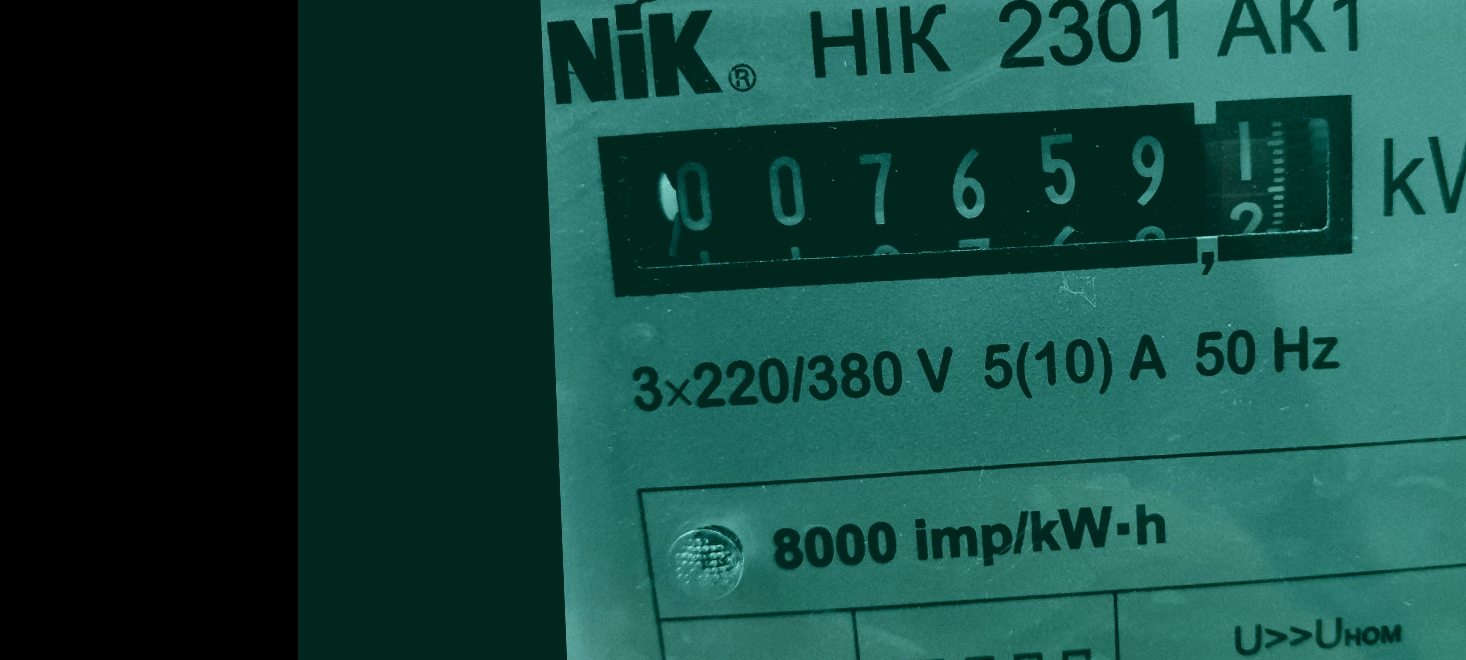0: (755, 145, 815, 233), (667, 149, 721, 241)
1: (1228, 112, 1265, 189)
5: (1033, 126, 1082, 210)
6: (940, 138, 994, 223)
7: (853, 144, 899, 231)
9: (1126, 125, 1171, 215)
screen: (577, 72, 1379, 318)
